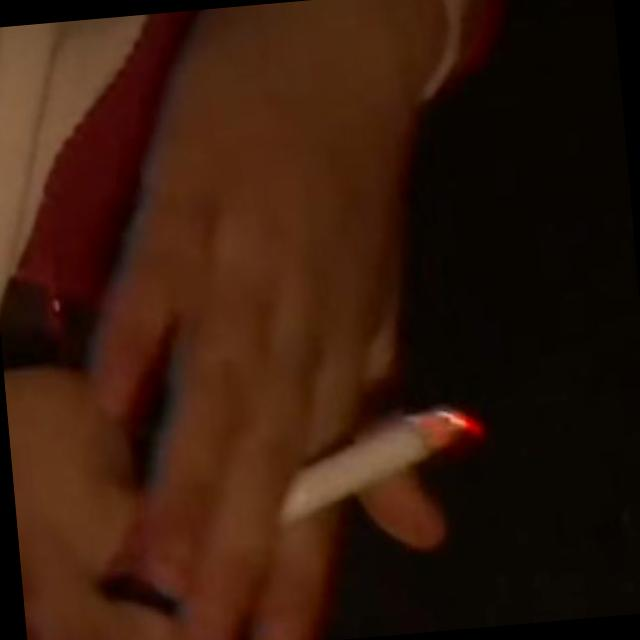smoke: (250, 365, 500, 544)
